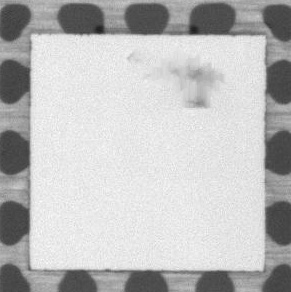DIE_INK: (170, 55, 219, 109)
